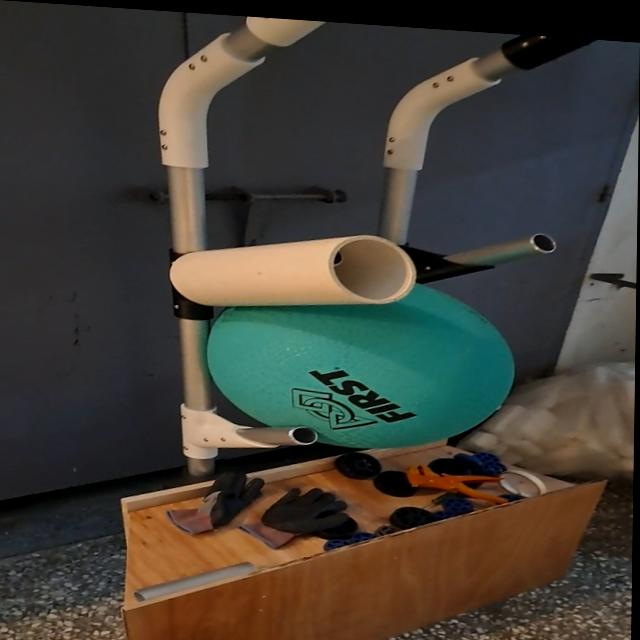ALGAE: (201, 254, 517, 459)
CORAL: (167, 218, 419, 319)
